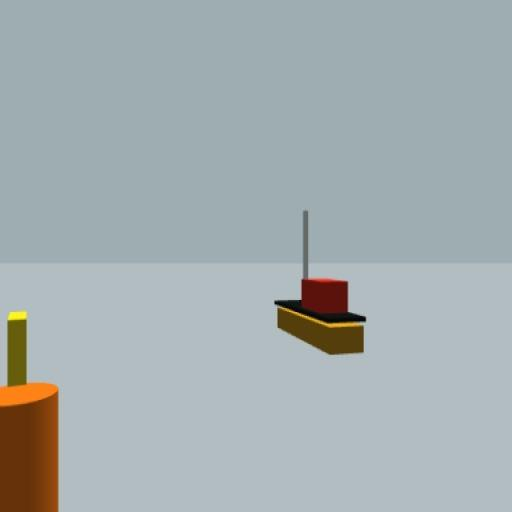vessel: (273, 210, 367, 354)
